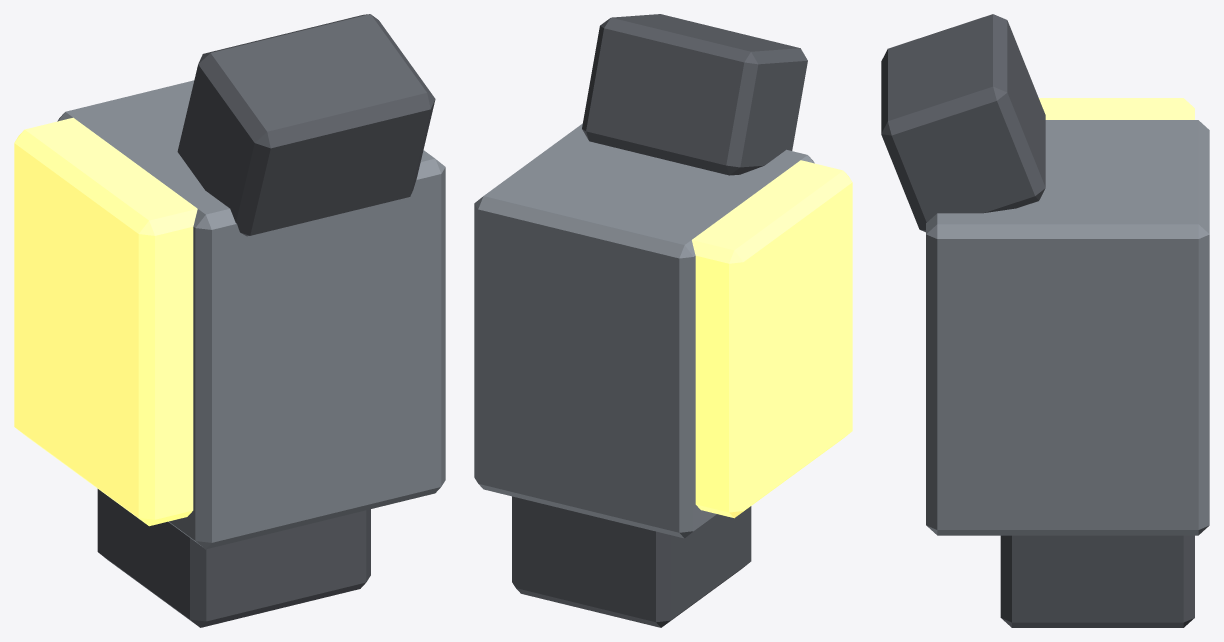
Rendered from tankhead_arm_left_lower.glb.
3 renders of one model, left to right at view 1: azimuth 30°, elevation 25°; view 2: azimuth 150°, elevation 25°; view 3: azimuth 270°, elevation 25°, orthographic. The views are drawn at different scales.
Visible parts, largest first — view 1: tankhead_arm_left_lower; view 2: tankhead_arm_left_lower; view 3: tankhead_arm_left_lower.
Part boxes in pixels (bbox=[...]): tankhead_arm_left_lower: bbox=[14, 14, 445, 627]; tankhead_arm_left_lower: bbox=[474, 14, 852, 627]; tankhead_arm_left_lower: bbox=[881, 14, 1209, 627].
Bounding box in the file's own units: 0.43 × 0.8002 × 0.4402.
